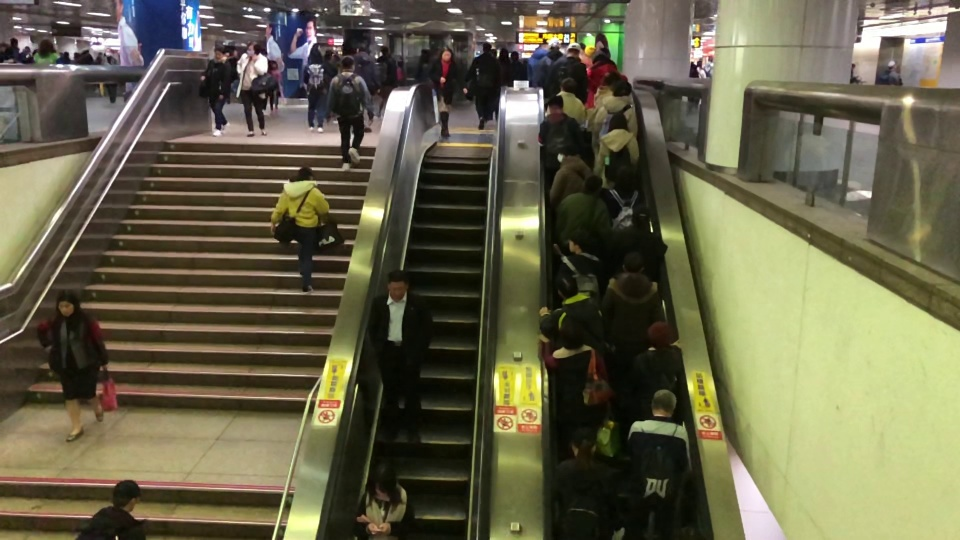person_head: (366, 461, 397, 502), (110, 478, 141, 513), (570, 424, 598, 460), (557, 319, 587, 351), (649, 388, 677, 419), (566, 227, 595, 256), (384, 270, 409, 303), (54, 288, 81, 318), (646, 320, 670, 349), (554, 273, 580, 299), (620, 249, 645, 274), (615, 163, 639, 189), (554, 139, 578, 163), (630, 204, 651, 231), (606, 112, 629, 134), (582, 174, 603, 196), (293, 165, 313, 183), (612, 80, 632, 98), (547, 94, 564, 115), (559, 76, 577, 95), (601, 70, 620, 87), (339, 54, 356, 72), (38, 39, 55, 56), (593, 47, 611, 62), (245, 41, 261, 57), (308, 47, 323, 64), (565, 42, 580, 59), (547, 36, 561, 51), (213, 44, 226, 60), (439, 47, 452, 62), (358, 42, 371, 56), (584, 45, 597, 58), (497, 47, 509, 59), (324, 49, 335, 62), (887, 59, 897, 71), (9, 37, 19, 48), (268, 60, 279, 70), (380, 45, 389, 57), (482, 41, 491, 53), (510, 50, 519, 62), (489, 48, 497, 59), (22, 45, 30, 54), (98, 51, 106, 60), (396, 59, 404, 67), (695, 60, 702, 68), (707, 55, 714, 63), (63, 51, 69, 58), (226, 49, 232, 56), (690, 63, 696, 70)
person_vbox: (368, 271, 434, 445), (622, 387, 697, 539), (36, 288, 109, 443), (549, 424, 644, 540), (537, 319, 614, 439), (600, 249, 664, 387), (619, 319, 682, 456), (268, 164, 330, 295), (325, 54, 374, 172), (537, 273, 604, 355), (352, 461, 416, 540), (552, 174, 614, 254), (606, 204, 668, 282), (73, 478, 147, 540), (537, 94, 584, 190), (552, 228, 609, 304), (426, 47, 468, 139), (591, 80, 638, 160), (592, 111, 638, 189), (464, 40, 502, 130), (235, 41, 269, 137), (598, 163, 645, 230), (548, 139, 592, 210), (199, 44, 232, 136), (543, 42, 588, 105), (350, 42, 381, 133), (583, 46, 628, 108), (302, 46, 330, 133), (545, 76, 586, 127), (587, 70, 621, 129), (529, 36, 564, 88), (375, 45, 397, 118), (323, 49, 338, 119), (98, 51, 118, 103), (527, 47, 548, 89), (33, 38, 65, 64), (504, 51, 527, 87), (267, 59, 282, 114), (225, 48, 237, 105), (880, 59, 901, 85), (497, 47, 510, 87), (687, 62, 699, 103), (1, 37, 19, 63), (579, 45, 597, 70), (19, 44, 33, 64), (703, 54, 714, 78), (395, 59, 404, 86), (695, 59, 706, 78), (62, 51, 71, 64)
